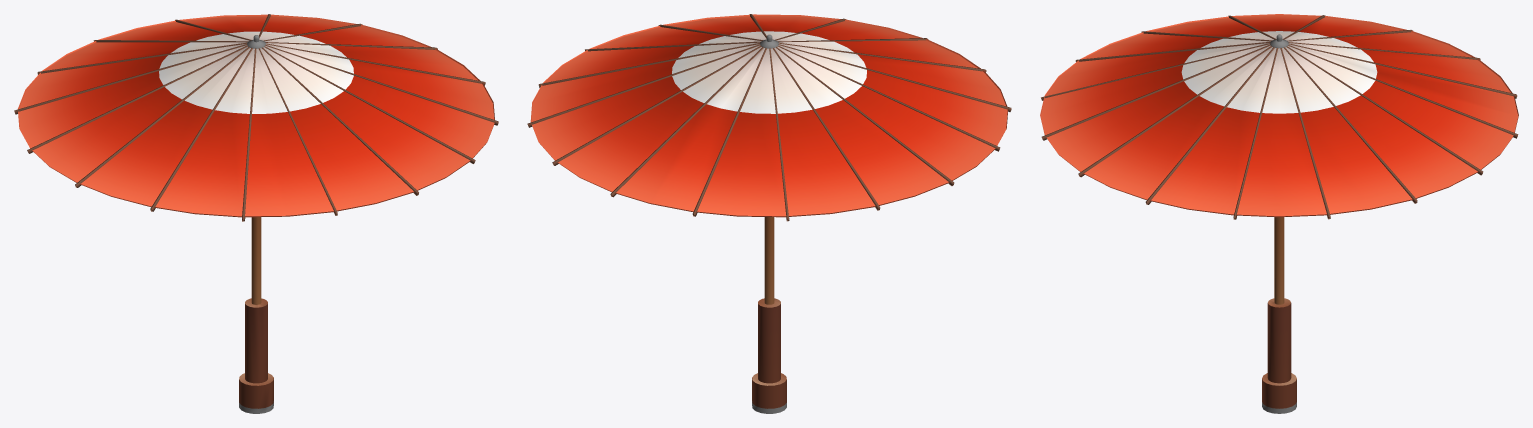
The model's file is unbrella_fbx.fbx.
3 views of the same model, side by side, from view 1: azimuth 30°, elevation 25°; view 2: azimuth 150°, elevation 25°; view 3: azimuth 270°, elevation 25° (orthographic).
Parts seen in each view (by area): view 1: PM3D_Cylinder3D1_2; view 2: PM3D_Cylinder3D1_2; view 3: PM3D_Cylinder3D1_2.
Part boxes in pixels (x1=…): PM3D_Cylinder3D1_2: x1=14, y1=14, x2=498, y2=413; PM3D_Cylinder3D1_2: x1=527, y1=14, x2=1011, y2=413; PM3D_Cylinder3D1_2: x1=1040, y1=14, x2=1518, y2=413.
Bounding box in the file's own units: 538 × 461 × 538.
